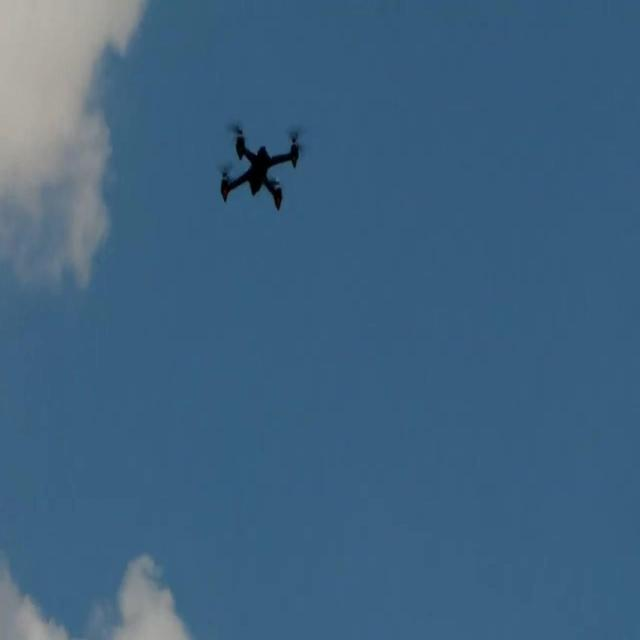drone: (218, 122, 302, 215)
